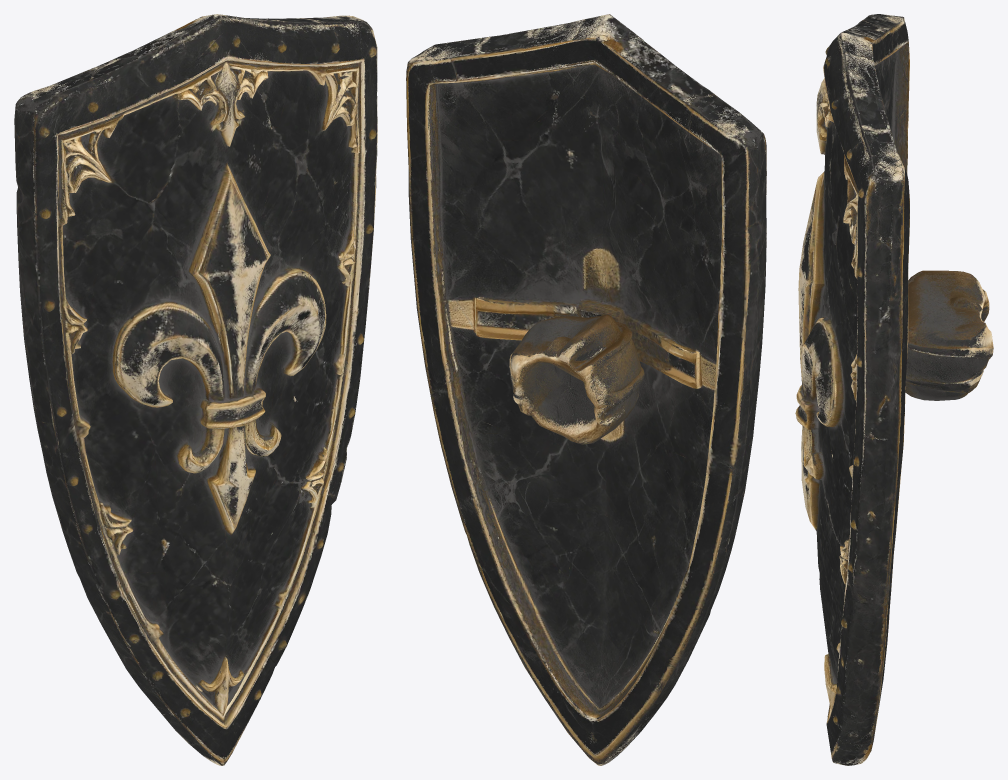
The model's file is shield-black.glb.
The picture shows the model from 3 angles, left to right: view 1: azimuth 30°, elevation 25°; view 2: azimuth 150°, elevation 25°; view 3: azimuth 270°, elevation 25°; orthographic projection. The views are drawn at different scales.
Parts seen in each view (by area): view 1: Shield; view 2: Shield; view 3: Shield.
Boxes of the visible parts, bbox=[...] form: Shield: bbox=[14, 14, 377, 765]; Shield: bbox=[406, 14, 766, 765]; Shield: bbox=[795, 14, 993, 765].
Bounding box in the file's own units: 0.2959 × 0.6 × 0.1472.
Materials: 1 (1 with a texture image).
